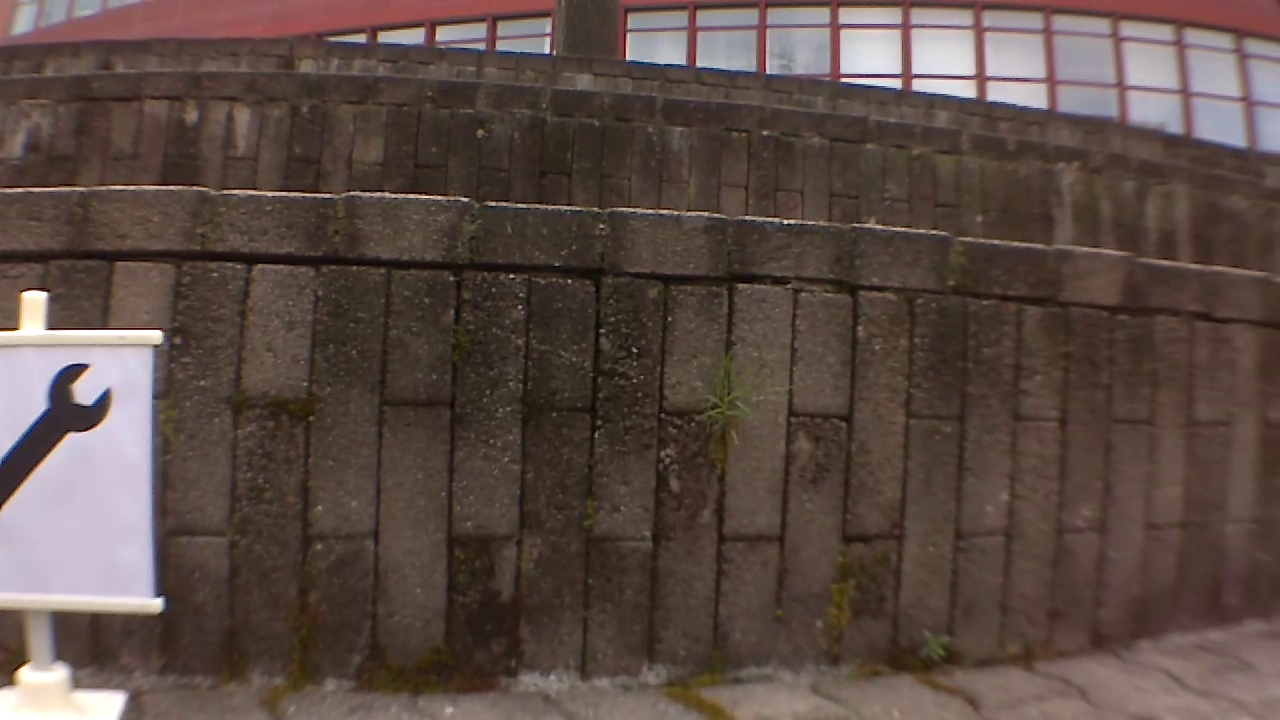wrench: (0, 362, 114, 565)
